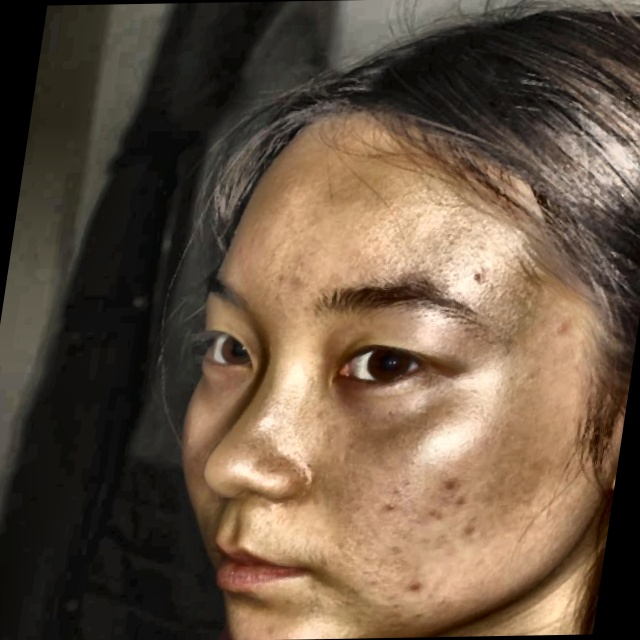comedone: (554, 315, 592, 346), (404, 574, 433, 596)
